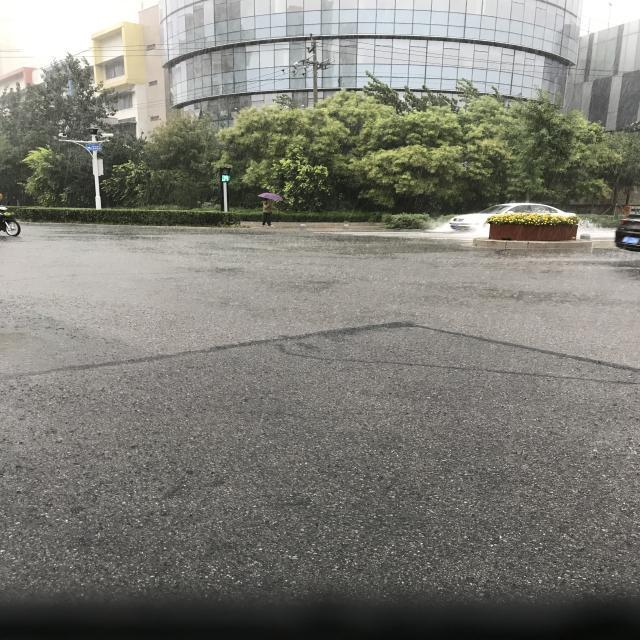car: (204, 61, 228, 190), (206, 0, 254, 24)
